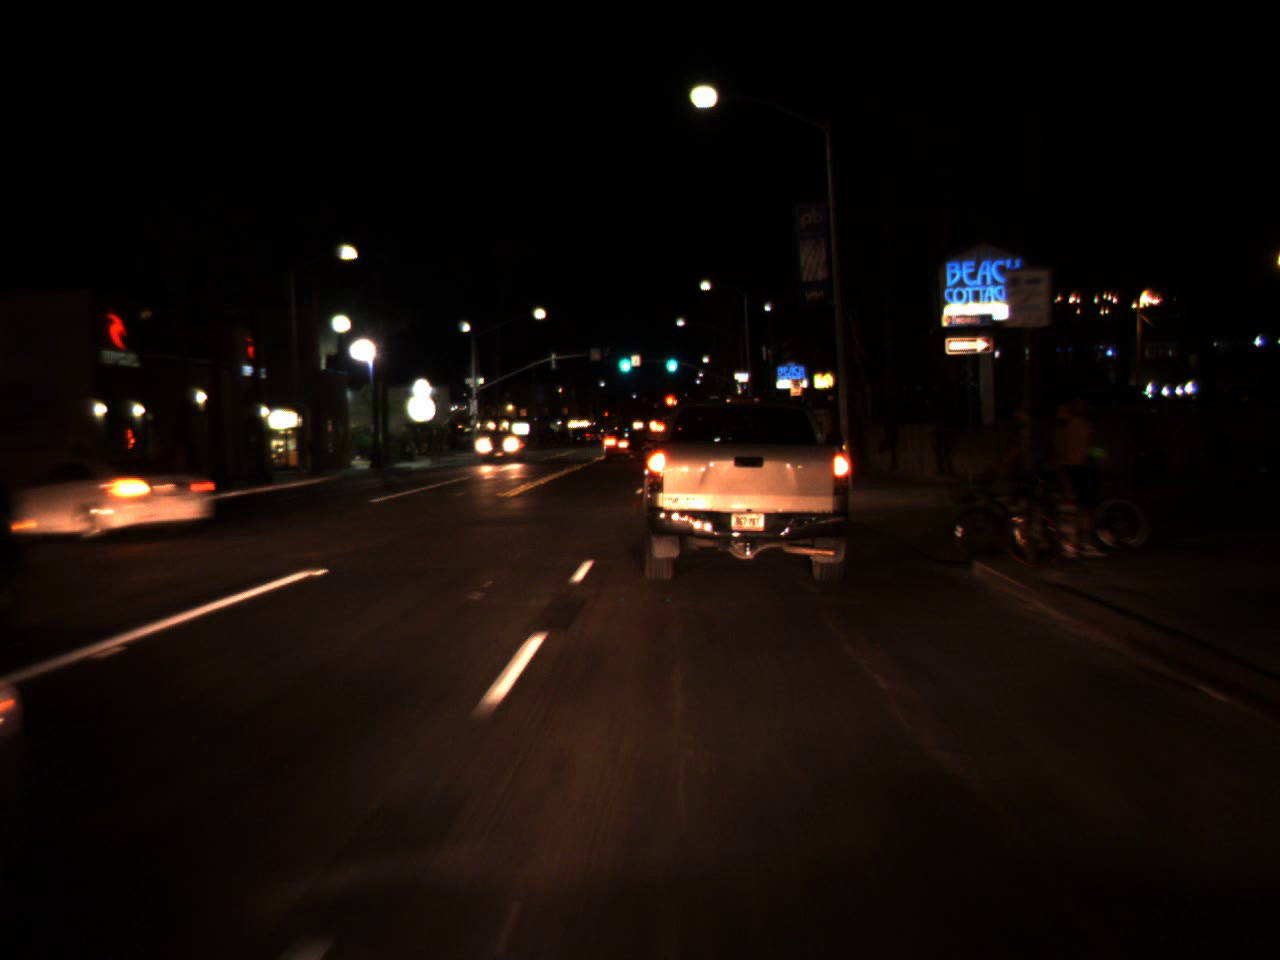go: (614, 341, 635, 377), (662, 343, 680, 376)
